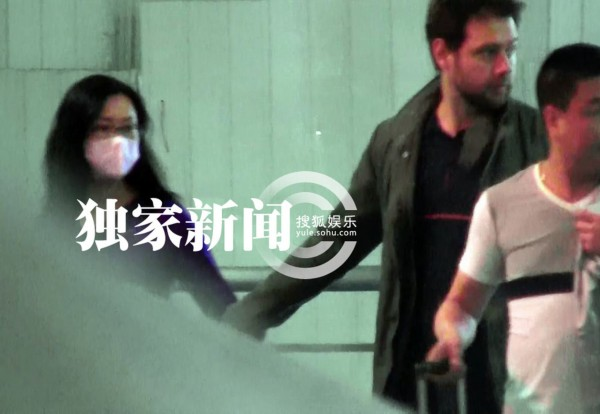face: (459, 15, 521, 102), (562, 83, 599, 161)
face_mask: (84, 96, 140, 178)
